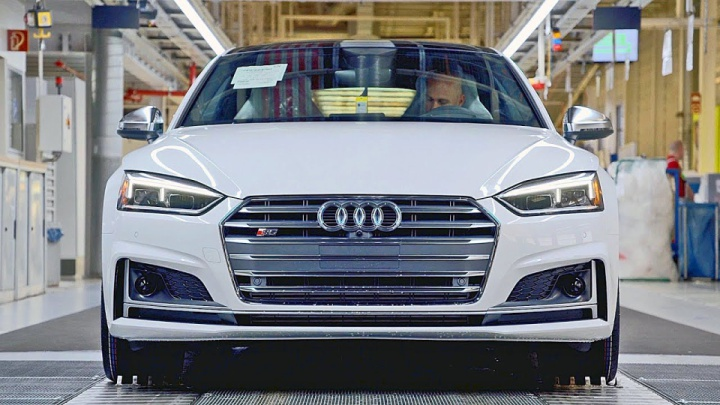audi: (304, 199, 412, 240)
